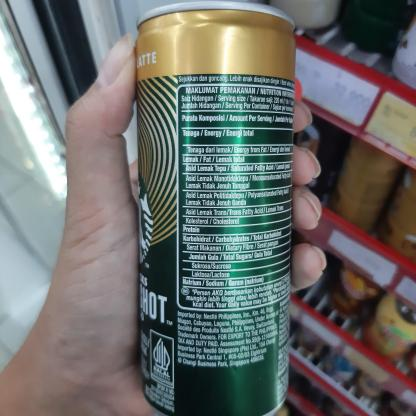alumunium_can: (109, 0, 302, 416)
